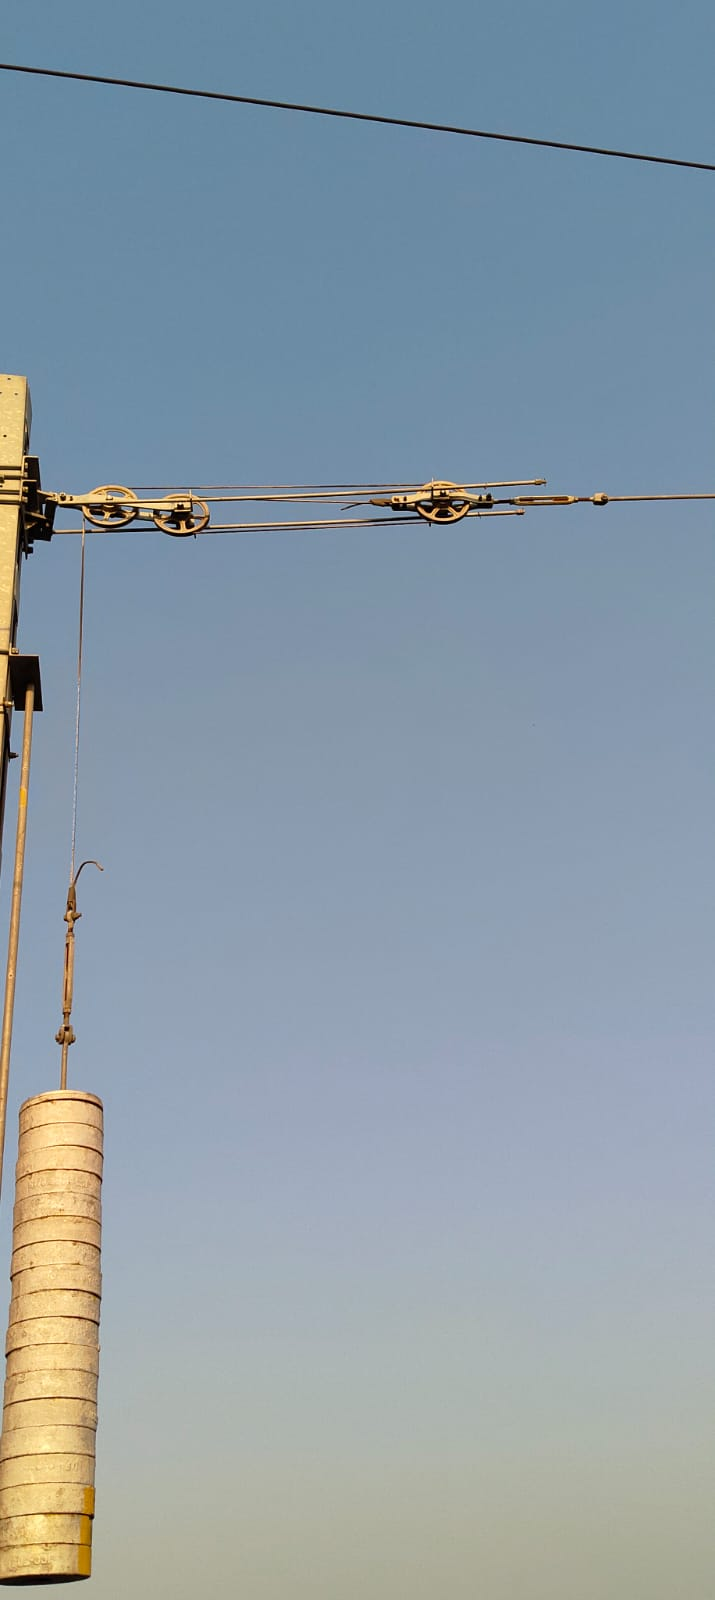Pulley: (78, 472, 144, 537), (153, 474, 213, 542), (406, 474, 468, 531)
objectA: (0, 1081, 126, 1596)
pole: (4, 368, 45, 719)
